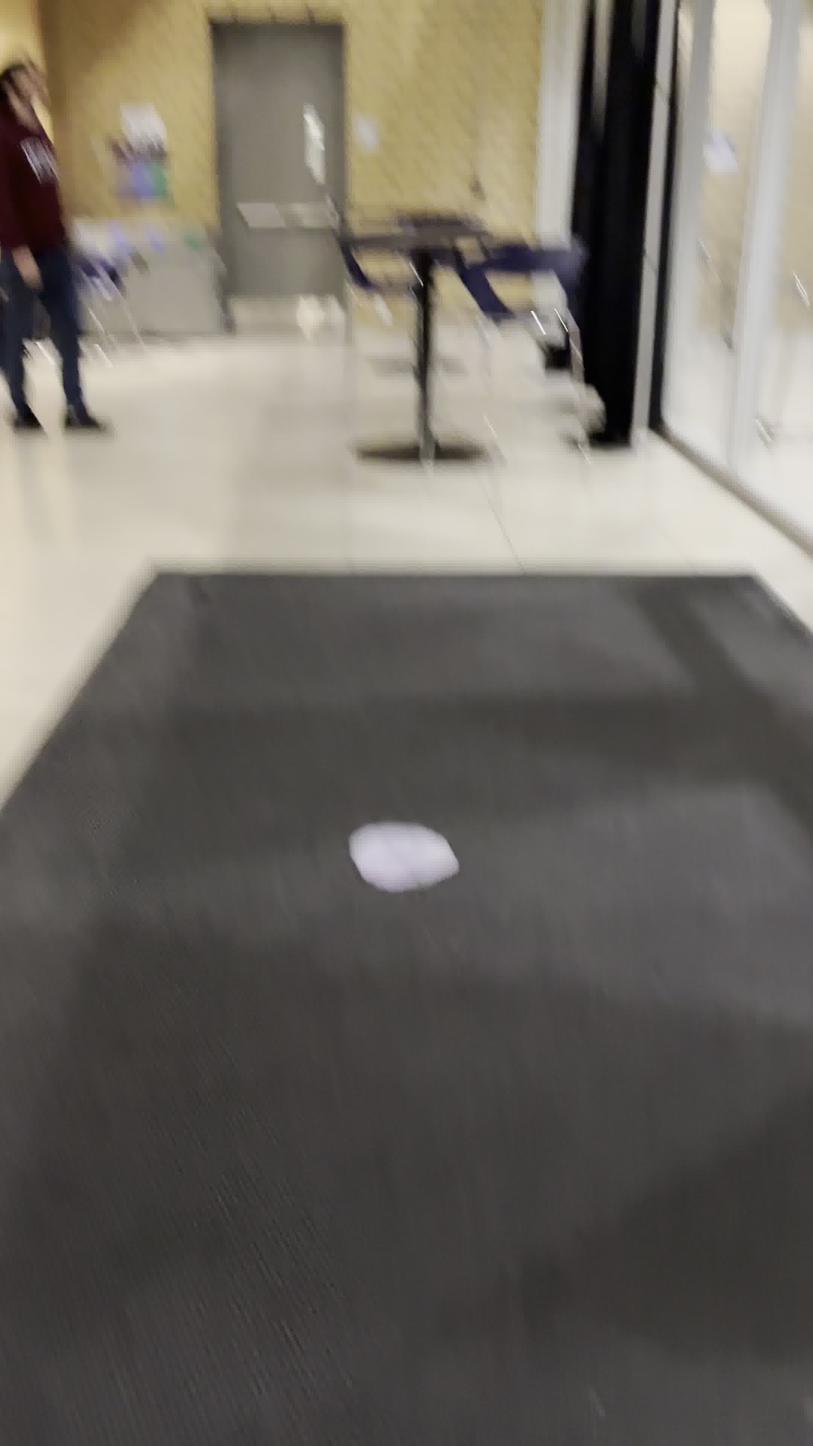Target: (344, 816, 465, 897)
